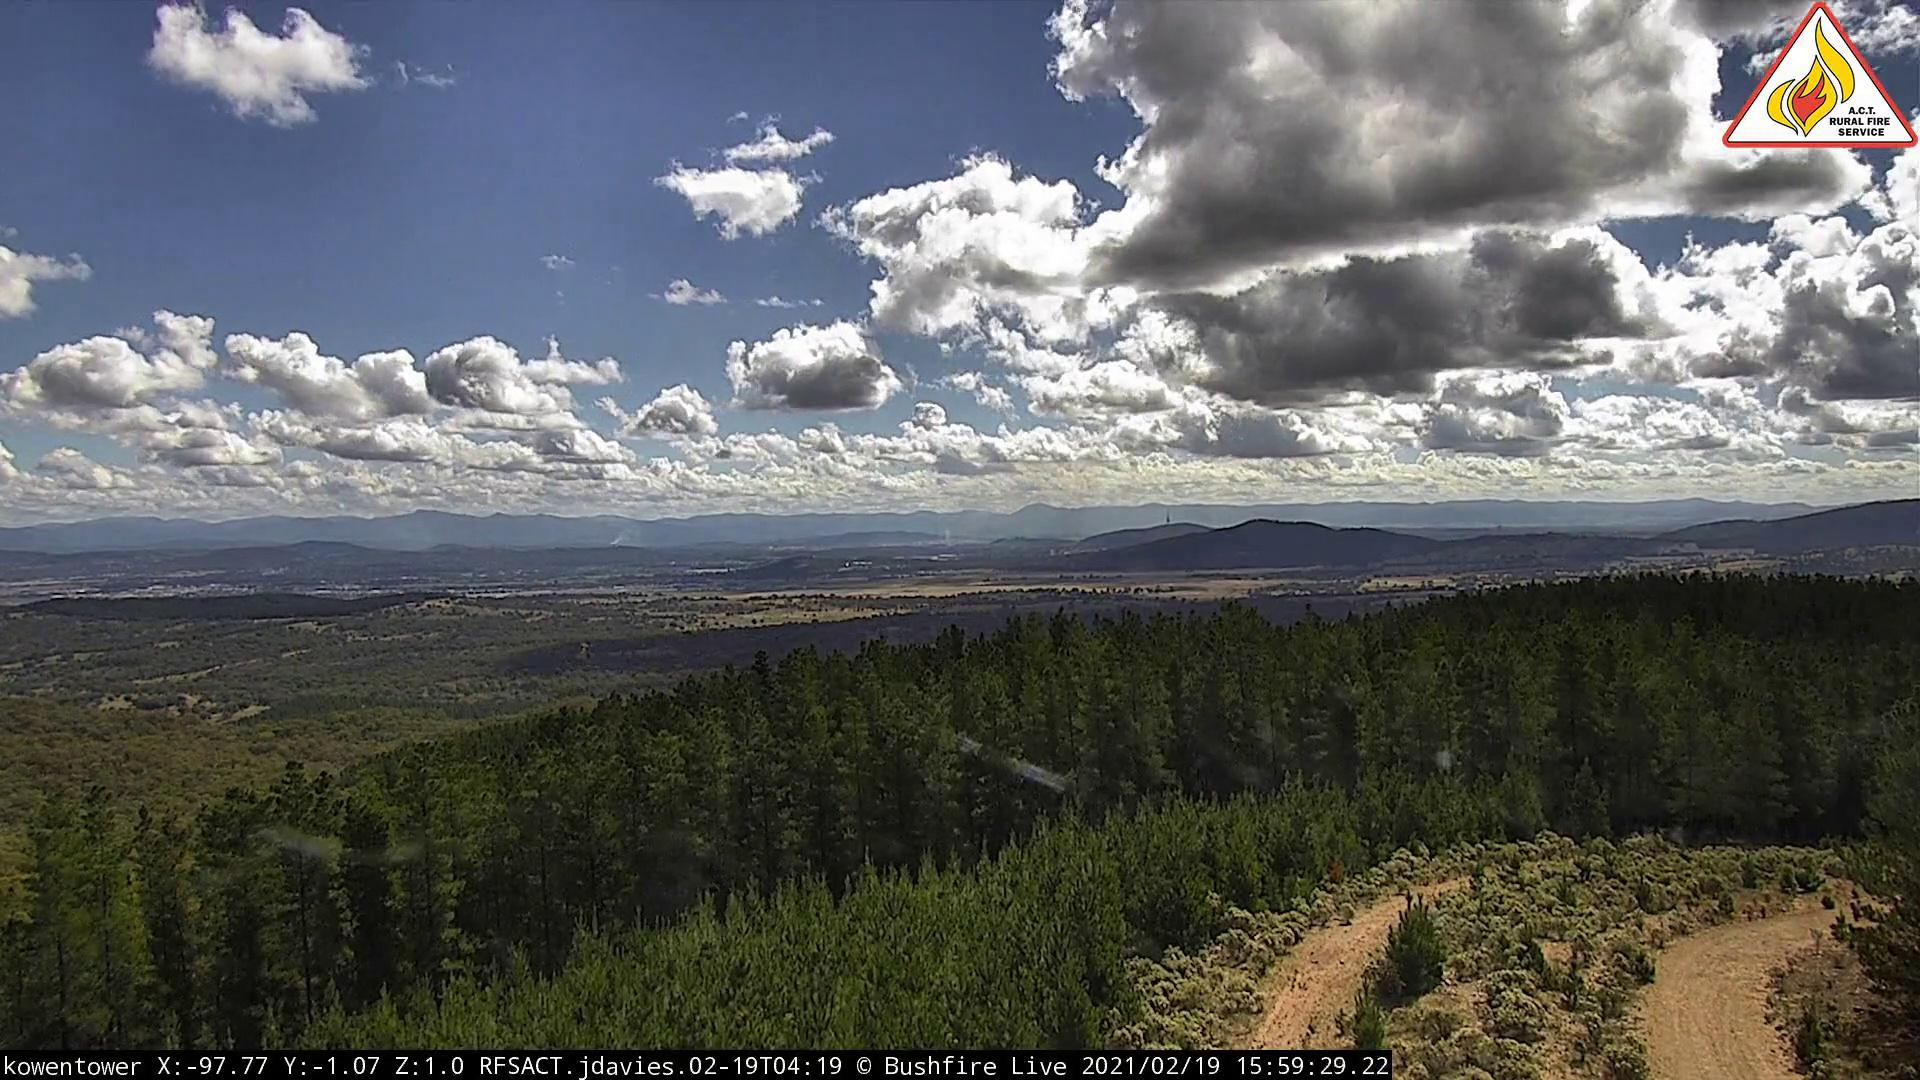Smoke: (923, 531, 985, 553), (607, 531, 645, 554)
